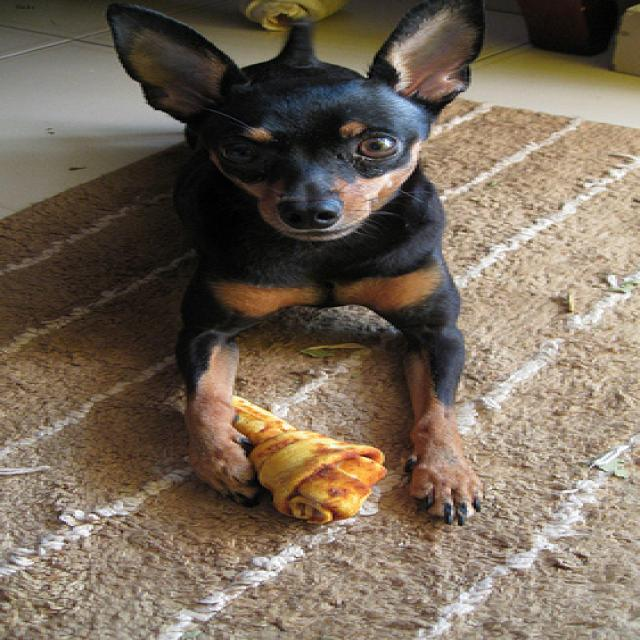dog-miniature_pinscher: (80, 1, 501, 536)
